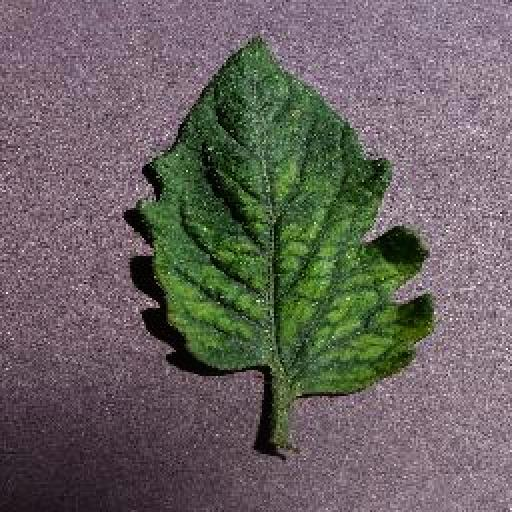disease_tomato: (134, 30, 440, 398)
